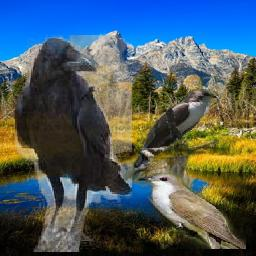Crow: (16, 36, 133, 253)
Cuckoo: (121, 90, 219, 183), (136, 173, 246, 249)
